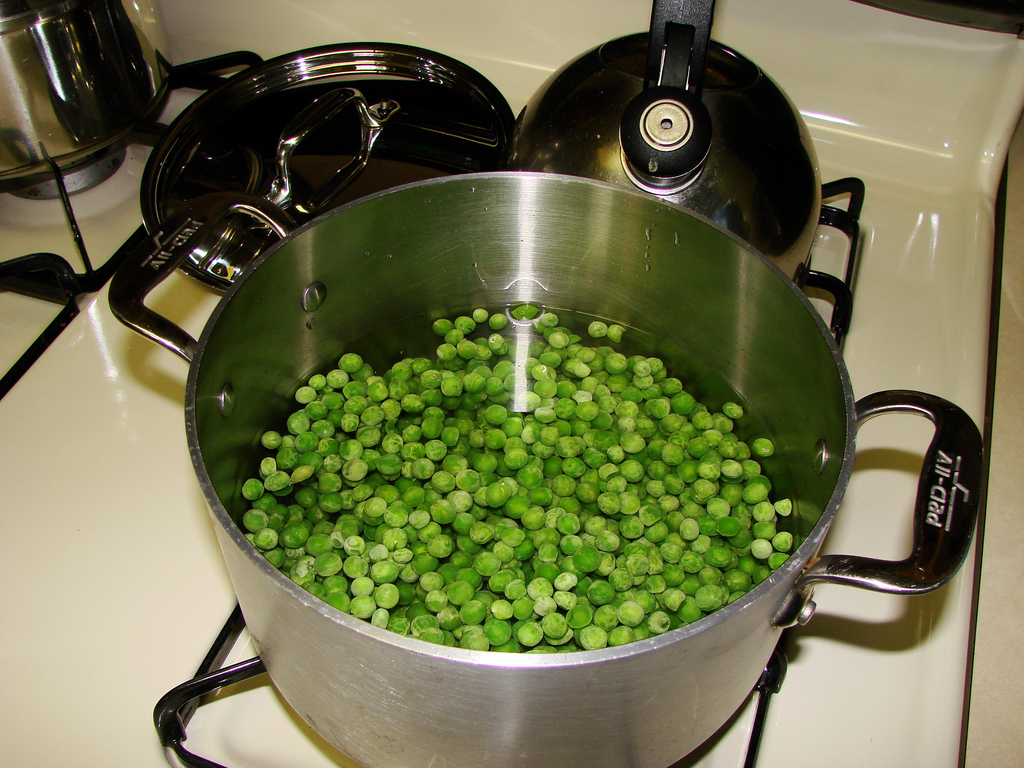boiled peas: (329, 355, 686, 584)
